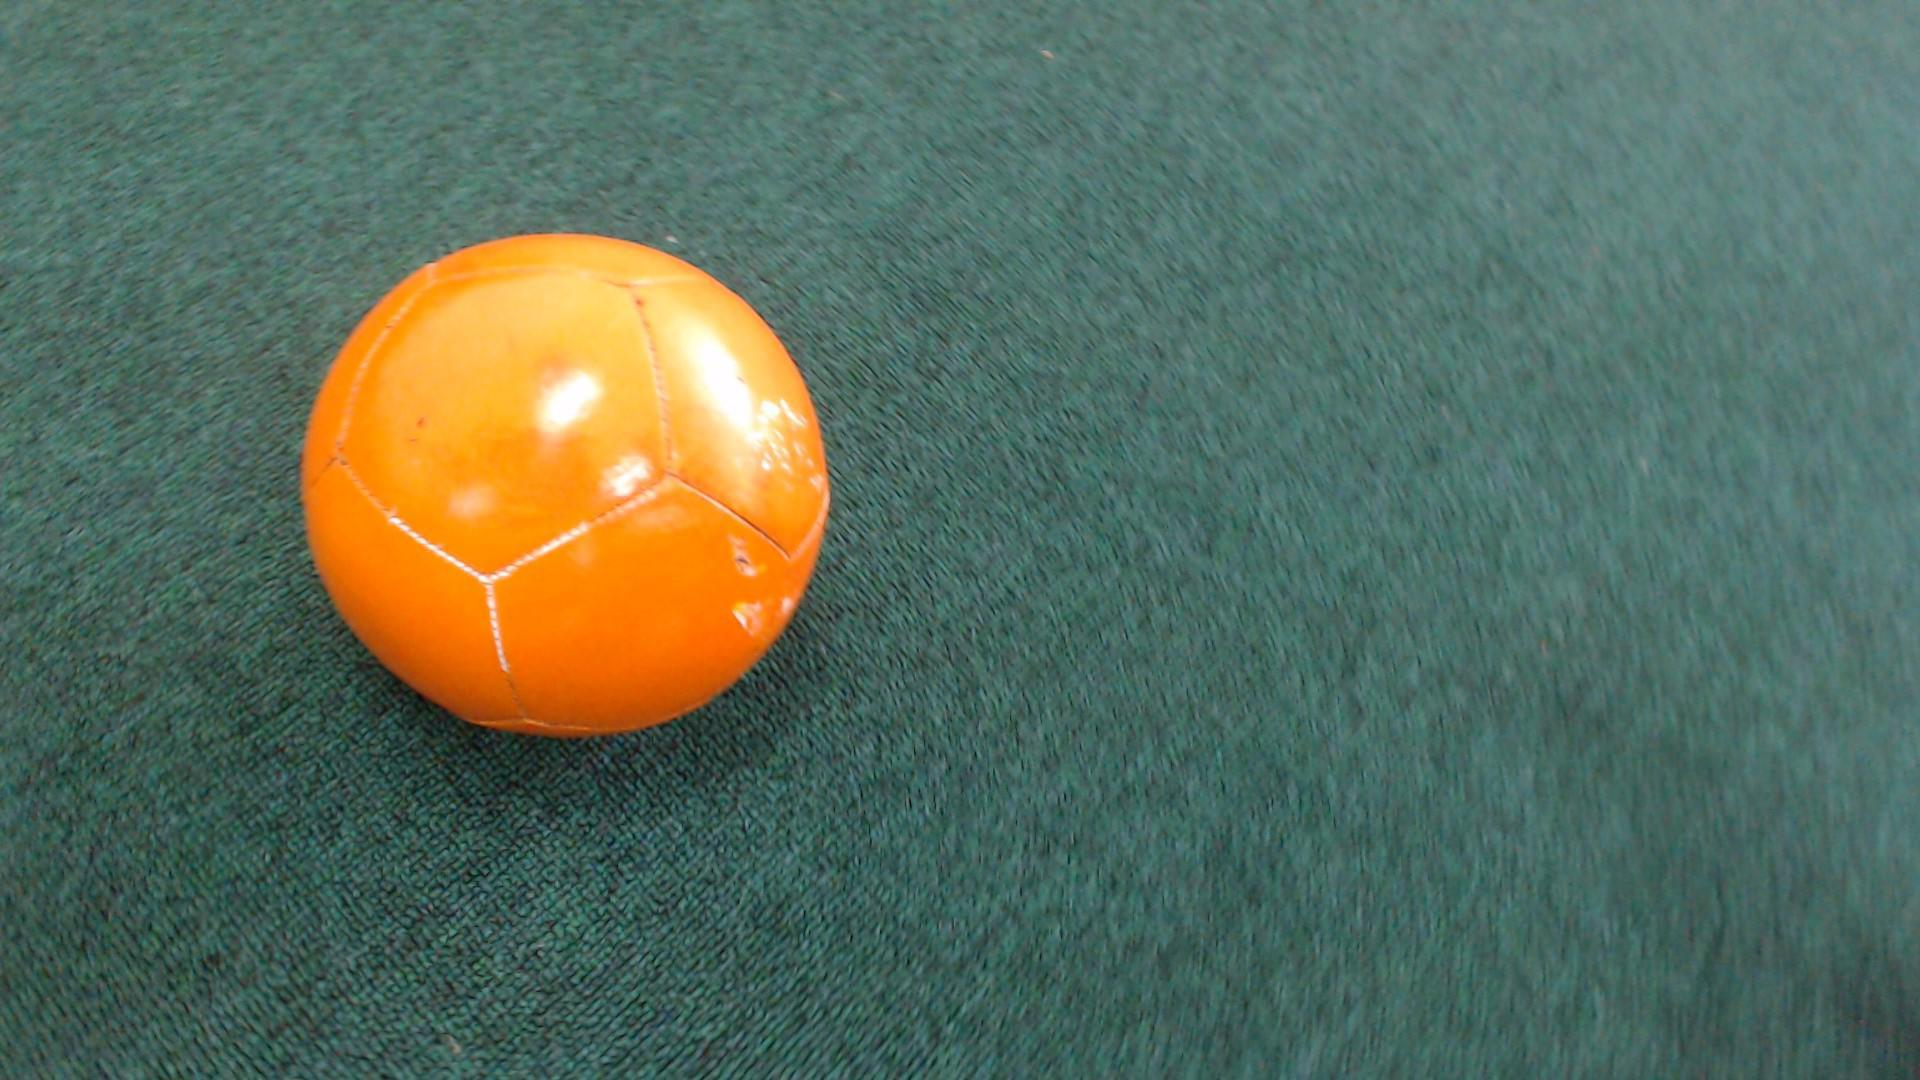bola: (258, 193, 956, 815)
